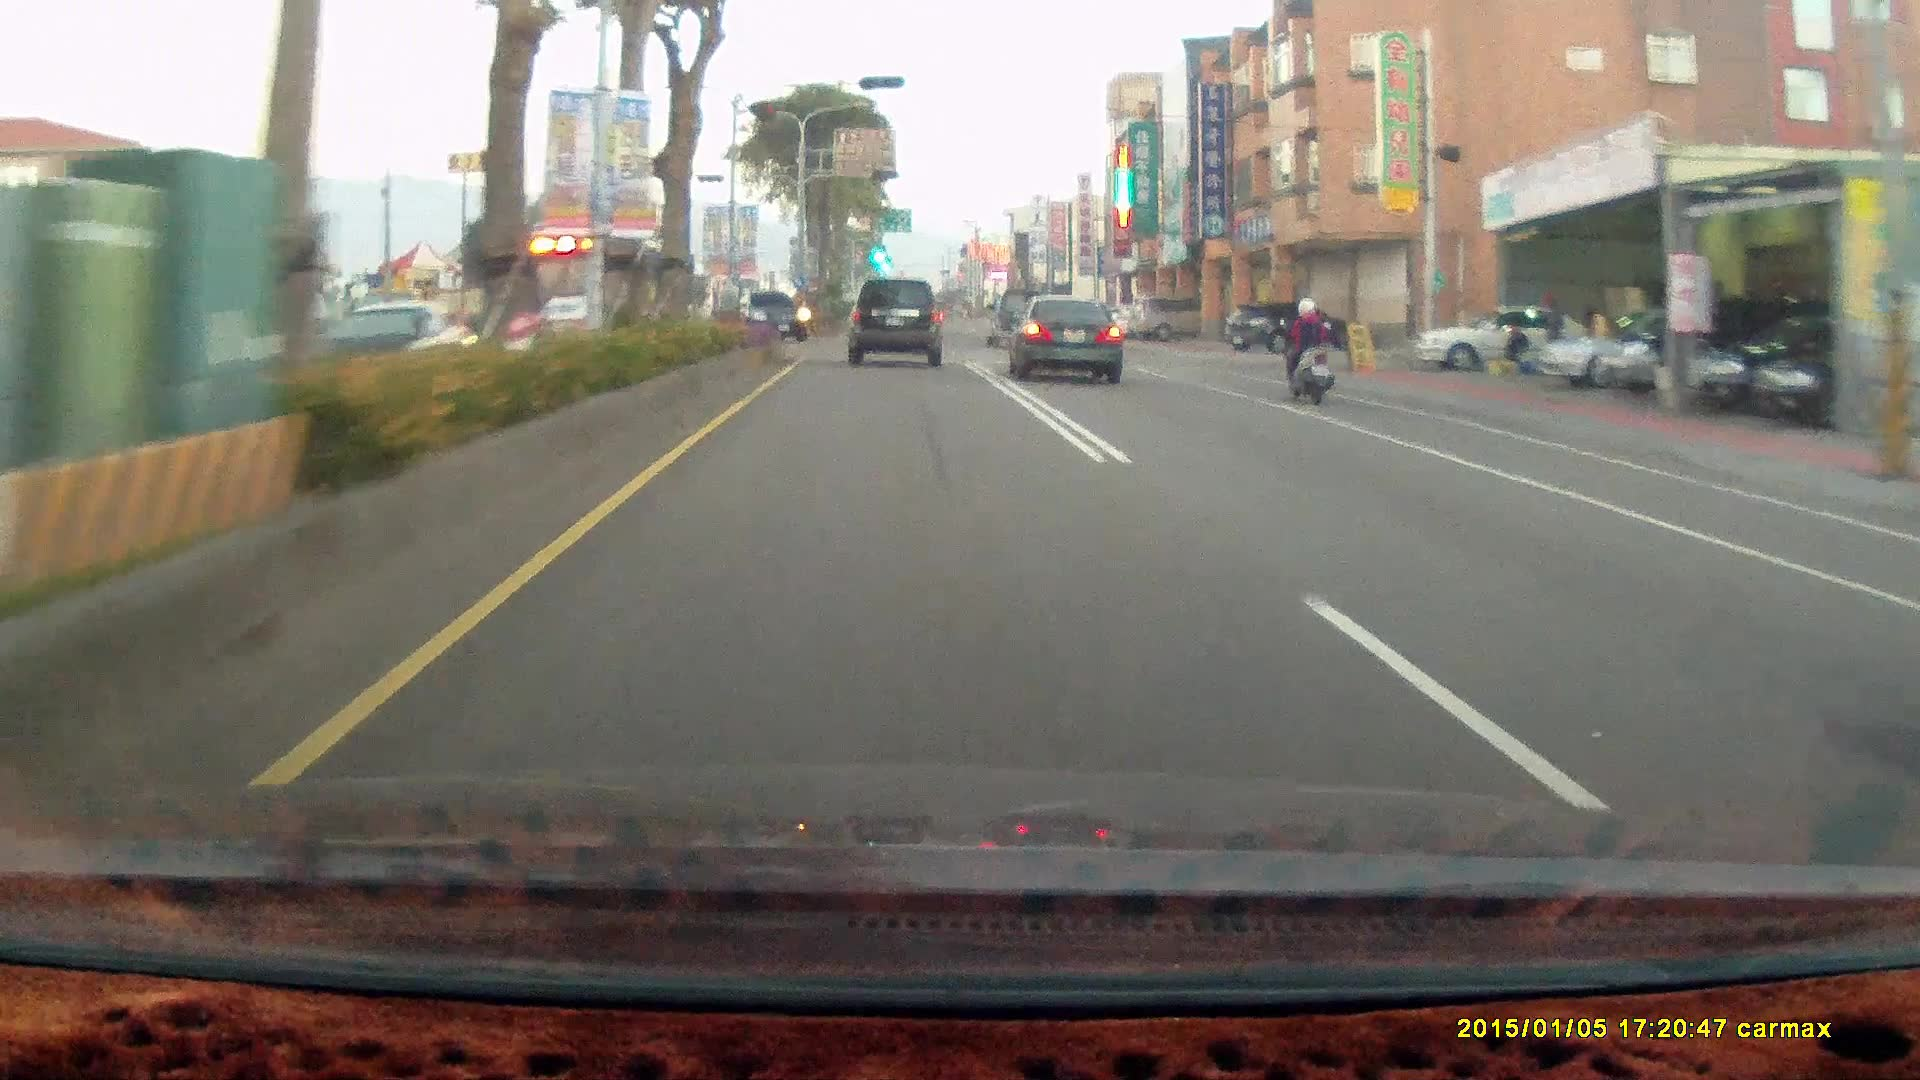pedestrian: (1540, 287, 1564, 367), (1502, 319, 1530, 372)
rider: (1270, 286, 1349, 413), (1277, 290, 1335, 397)
vehicle: (1694, 302, 1891, 415), (513, 231, 696, 351), (1689, 313, 1904, 414), (1758, 310, 1920, 427), (1601, 295, 1792, 394), (1539, 303, 1758, 386), (1760, 319, 1920, 433), (306, 300, 483, 399), (1402, 304, 1600, 379), (1412, 302, 1592, 371), (1015, 297, 1133, 393), (1004, 292, 1124, 381), (845, 280, 947, 370), (845, 276, 943, 364), (1224, 301, 1359, 355), (1221, 302, 1348, 354), (1124, 292, 1216, 341), (733, 289, 811, 344), (732, 289, 809, 343), (984, 288, 1049, 346)
